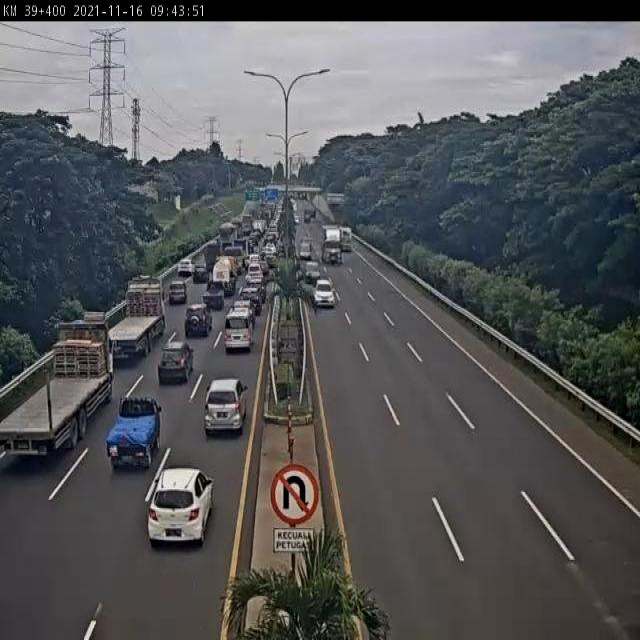Car: (146, 466, 215, 546), (203, 377, 249, 434), (158, 338, 195, 384), (184, 302, 214, 336), (240, 287, 263, 318), (310, 279, 334, 308), (202, 282, 226, 310), (303, 260, 321, 282), (192, 263, 209, 283), (178, 260, 195, 278), (299, 240, 312, 260)
Truck: (0, 312, 112, 454), (110, 274, 167, 366), (105, 393, 162, 474), (212, 257, 236, 297), (322, 226, 342, 264), (340, 226, 352, 252)
Van: (223, 306, 254, 352)
